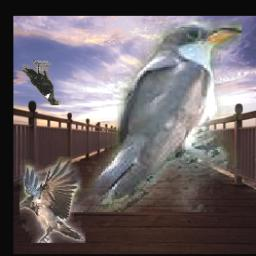Crow: (20, 157, 85, 244), (22, 61, 60, 105)
Cuckoo: (65, 20, 242, 213)
